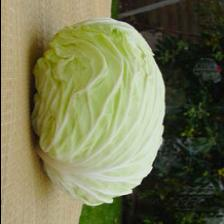cabbage: (30, 17, 166, 206)
